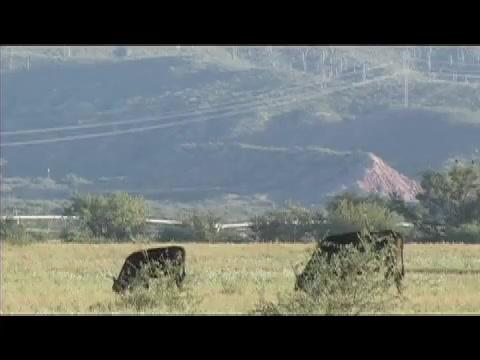cow: (294, 230, 408, 296), (111, 248, 188, 295)
